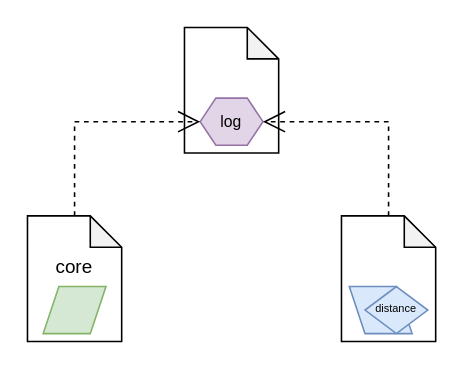
This 463x369 diagram has some shape labels left out. Each missing label, with the box of its shape:
aux: (340, 214, 436, 341)
chunk: (183, 26, 279, 153)
